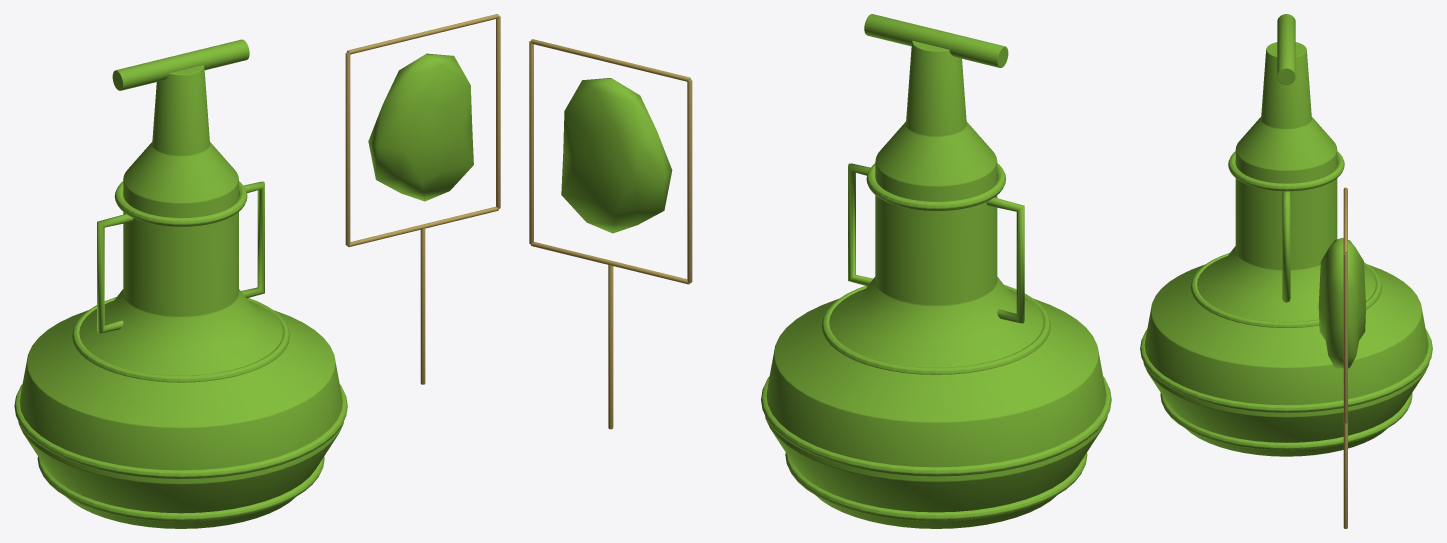
3 renders of one model, left to right at view 1: azimuth 30°, elevation 25°; view 2: azimuth 150°, elevation 25°; view 3: azimuth 270°, elevation 25°, orthographic. The views are drawn at different scales.
Visible parts, largest first — view 1: TI086 / spherical lower high-grade flask, TI086 / separate mineral specimen, TI086 / flask assembly seam.001, TI086 / flask assembly seam, TI086 / top hand valve, TI086 / flask assembly seam.002, TI086 / flask assembly seam.003, TI086 / flask protective side handle, TI086 / specimen display frame.003, TI086 / flask protective side handle.001, TI086 / specimen display frame.001, TI086 / specimen support (+2 smaller); view 2: TI086 / spherical lower high-grade flask, TI086 / separate mineral specimen, TI086 / flask assembly seam.001, TI086 / flask assembly seam, TI086 / top hand valve, TI086 / flask assembly seam.002, TI086 / flask assembly seam.003, TI086 / flask protective side handle, TI086 / specimen display frame.003, TI086 / flask protective side handle.001, TI086 / specimen display frame.001, TI086 / specimen support (+2 smaller); view 3: TI086 / spherical lower high-grade flask, TI086 / separate mineral specimen, TI086 / flask assembly seam.001, TI086 / flask assembly seam, TI086 / flask assembly seam.002, TI086 / top hand valve, TI086 / flask assembly seam.003, TI086 / flask protective side handle.001, TI086 / specimen display frame.001, TI086 / specimen support.
Part boxes in pixels (x1,y1,x2,y2): TI086 / spherical lower high-grade flask: (18, 65, 343, 528); TI086 / separate mineral specimen: (368, 53, 473, 201); TI086 / flask assembly seam.001: (14, 384, 347, 478); TI086 / flask assembly seam: (37, 456, 324, 521); TI086 / top hand valve: (112, 39, 249, 90); TI086 / flask assembly seam.002: (72, 297, 289, 382); TI086 / flask assembly seam.003: (114, 181, 247, 226); TI086 / flask protective side handle: (97, 214, 133, 333); TI086 / specimen display frame.003: (345, 52, 350, 245); TI086 / flask protective side handle.001: (241, 181, 264, 298); TI086 / specimen display frame.001: (496, 15, 500, 208); TI086 / specimen support: (420, 228, 425, 384); TI086 / spherical lower high-grade flask: (765, 40, 1107, 528); TI086 / separate mineral specimen: (561, 78, 672, 233); TI086 / flask assembly seam.001: (761, 376, 1111, 476); TI086 / flask assembly seam: (785, 453, 1087, 521); TI086 / top hand valve: (864, 14, 1008, 67); TI086 / flask assembly seam.002: (822, 285, 1050, 374); TI086 / flask assembly seam.003: (866, 163, 1005, 211); TI086 / flask protective side handle: (986, 197, 1024, 323); TI086 / specimen display frame.003: (687, 79, 692, 282); TI086 / flask protective side handle.001: (848, 163, 872, 286); TI086 / specimen display frame.001: (529, 40, 533, 244); TI086 / specimen support: (608, 264, 613, 429); TI086 / spherical lower high-grade flask: (1143, 42, 1429, 456); TI086 / separate mineral specimen: (1318, 237, 1365, 368); TI086 / flask assembly seam.001: (1140, 329, 1432, 412); TI086 / flask assembly seam: (1160, 393, 1412, 450); TI086 / flask assembly seam.002: (1191, 253, 1381, 327); TI086 / top hand valve: (1277, 14, 1295, 84); TI086 / flask assembly seam.003: (1228, 151, 1344, 191); TI086 / flask protective side handle.001: (1282, 191, 1290, 302); TI086 / specimen display frame.001: (1343, 253, 1347, 422); TI086 / specimen support: (1343, 422, 1347, 528).
Size of the model in its own units: 2.98 by 2.51 by 1.73.
